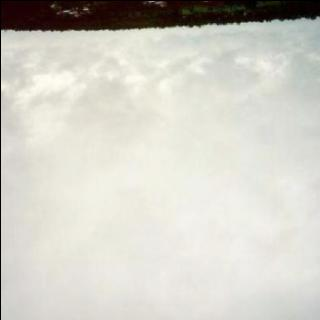Nimbostratus: (0, 23, 320, 320)
